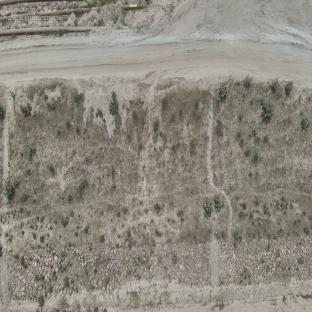rock_toe: (10, 244, 212, 297), (220, 236, 312, 285)
slope_drain: (0, 101, 9, 312)
toe_drain: (5, 282, 312, 311)
